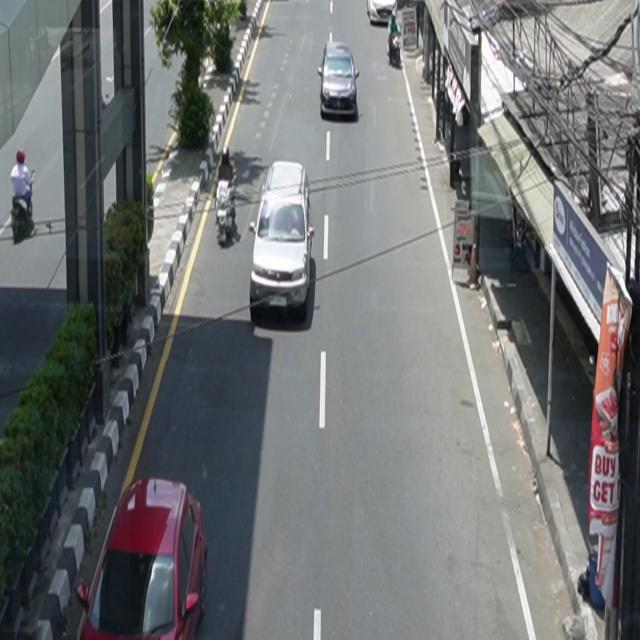car: (76, 476, 209, 640), (250, 161, 315, 321), (319, 40, 361, 121), (367, 1, 398, 25), (388, 18, 402, 68)
